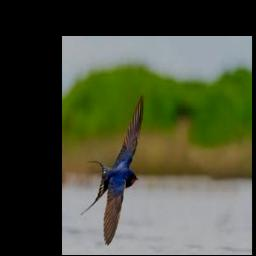Swallow: (80, 92, 143, 245)
